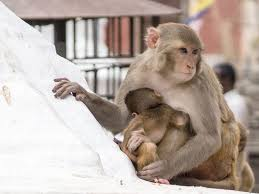monkey: (118, 21, 254, 187), (91, 86, 192, 170)
